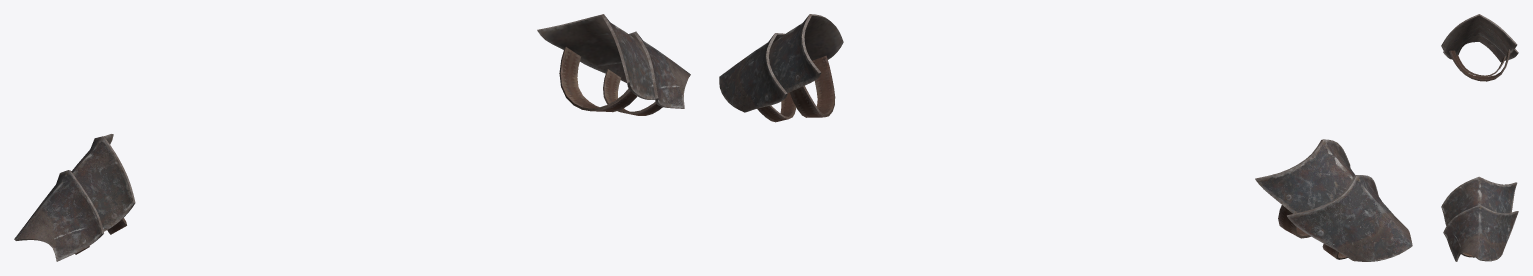
Rendered from sk_dg_uruk_bracer_med_a.fbx.
3 views of the same model, side by side, from view 1: azimuth 30°, elevation 25°; view 2: azimuth 150°, elevation 25°; view 3: azimuth 270°, elevation 25° (orthographic). The views are drawn at different scales.
Parts seen in each view (by area): view 1: sk_dg_uruk_bracer_med_a; view 2: sk_dg_uruk_bracer_med_a; view 3: sk_dg_uruk_bracer_med_a.
Boxes of the visible parts, bbox=[...] form: sk_dg_uruk_bracer_med_a: bbox=[14, 14, 690, 261]; sk_dg_uruk_bracer_med_a: bbox=[719, 14, 1412, 261]; sk_dg_uruk_bracer_med_a: bbox=[1441, 14, 1518, 261].
Size of the model in its own units: 1.4 by 0.2098 by 0.2127.
Materials: 1 (1 with a texture image).
